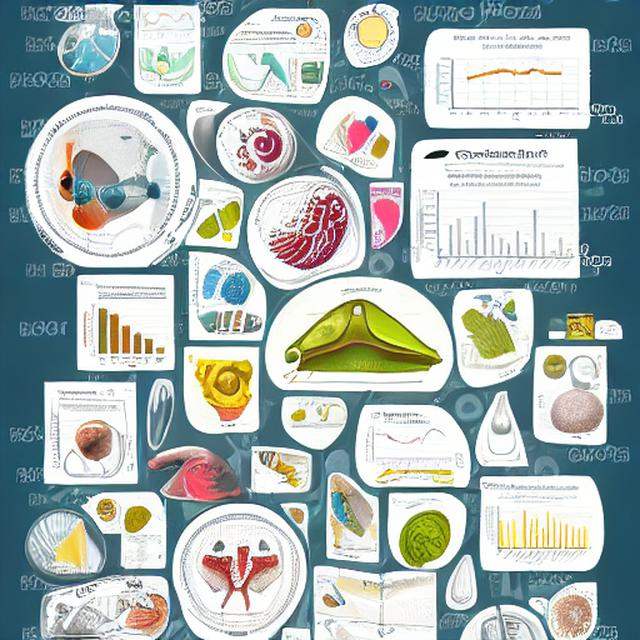Graph: (414, 181, 575, 275), (431, 33, 586, 126), (483, 494, 589, 569), (80, 296, 172, 367), (366, 420, 449, 466), (137, 6, 197, 42)
